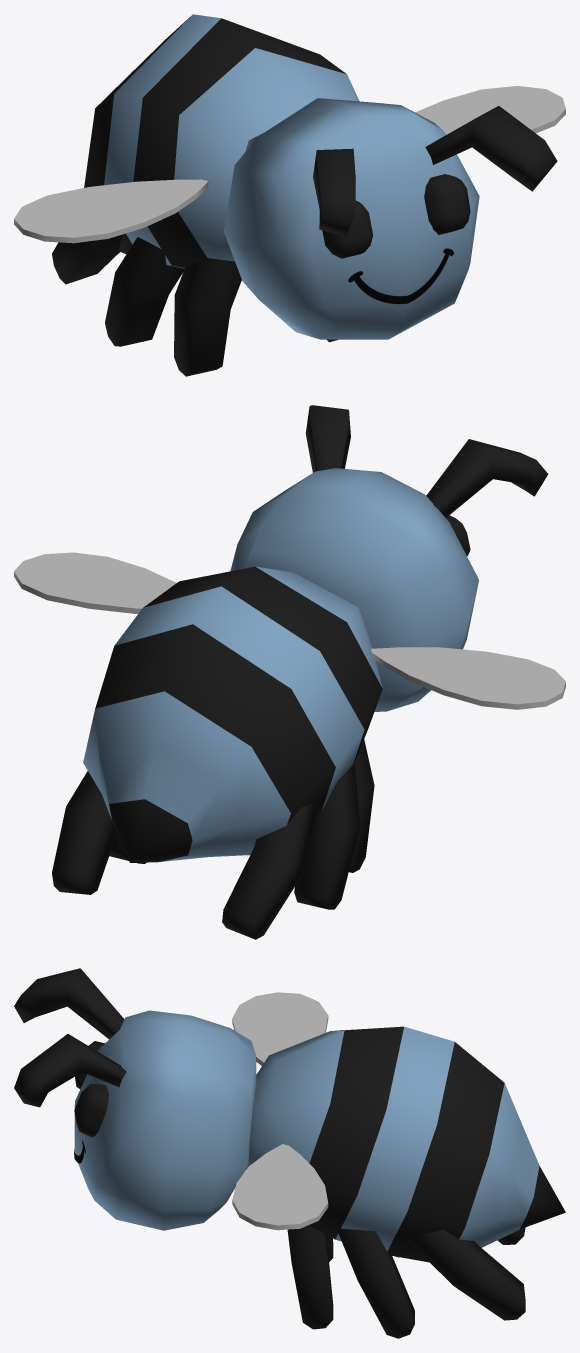
Rendered from Bee_2.glb.
The picture shows the model from 3 angles, top to bottom: view 1: azimuth 30°, elevation 25°; view 2: azimuth 150°, elevation 25°; view 3: azimuth 270°, elevation 25°; orthographic projection. The views are drawn at different scales.
Parts seen in each view (by area): view 1: Body, Wing_L, Wing_R; view 2: Body, Wing_L, Wing_R; view 3: Body, Wing_R, Wing_L.
Boxes of the visible parts, bbox=[...] form: Body: bbox=[52, 14, 557, 376]; Wing_L: bbox=[14, 179, 208, 243]; Wing_R: bbox=[415, 86, 565, 134]; Body: bbox=[52, 405, 548, 939]; Wing_L: bbox=[371, 647, 565, 709]; Wing_R: bbox=[14, 552, 176, 613]; Body: bbox=[14, 968, 565, 1338]; Wing_R: bbox=[232, 1144, 328, 1230]; Wing_L: bbox=[232, 992, 328, 1065].
Size of the model in its own units: 1.24 by 0.7109 by 1.24.
4 materials, 1 textured.
